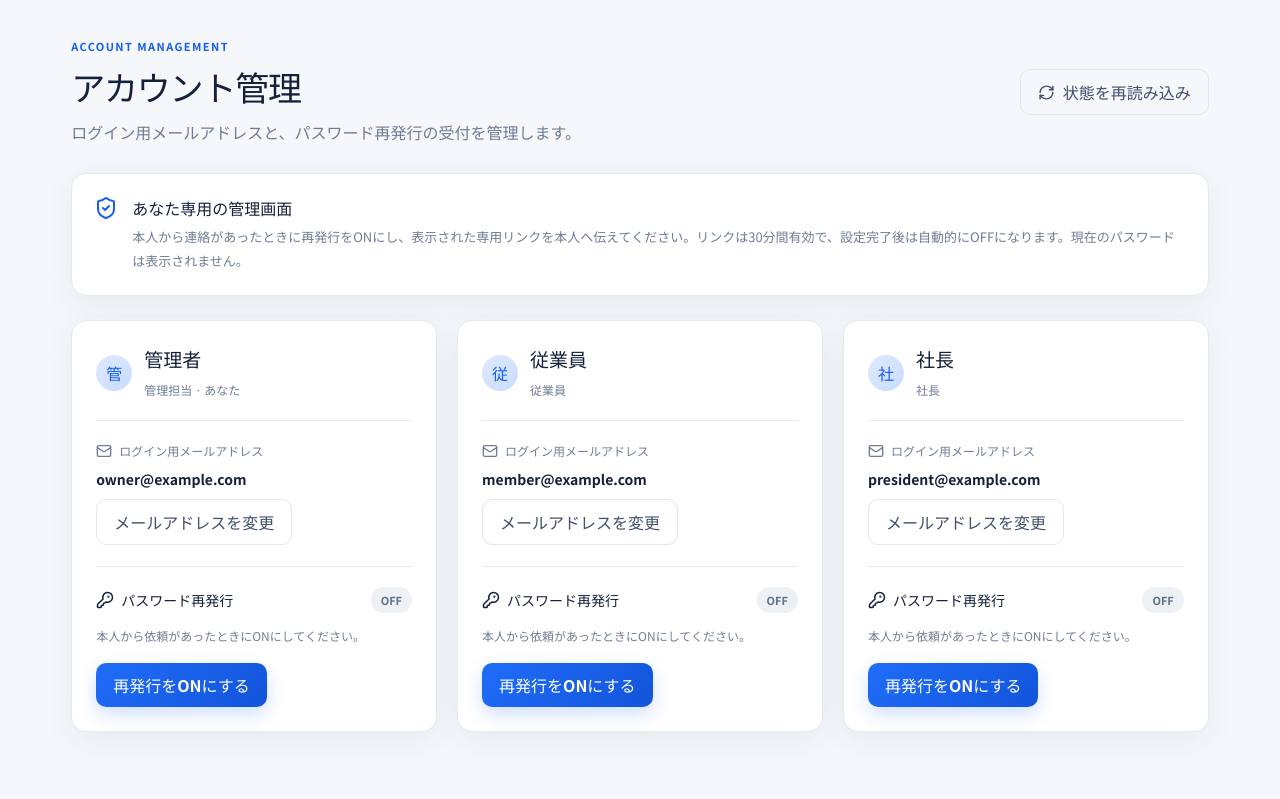
Test: removes a link when reloading finds completed recovery
The image size is (1280, 799).
Click the button "再発行をONにする" below "member@example.com" at (567, 685), box [482,663,653,707]
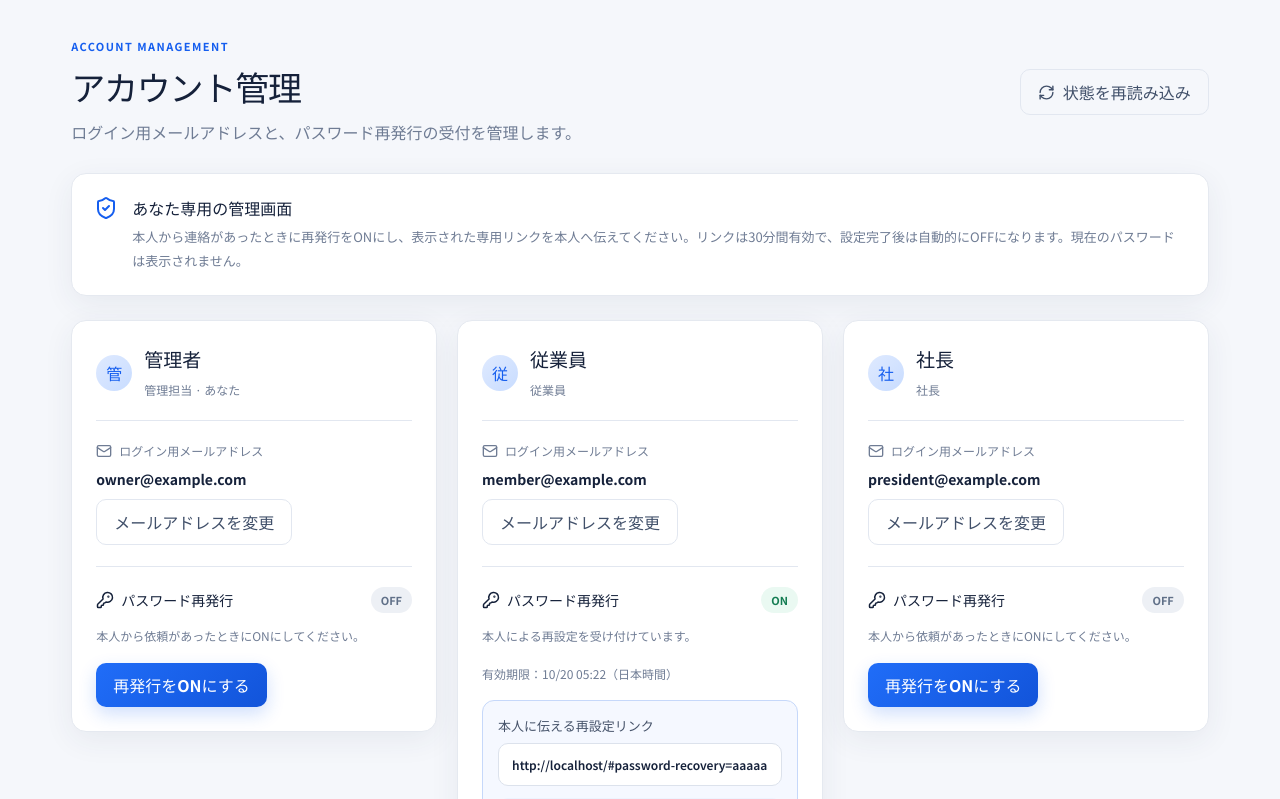
Now the field labelled "本人に伝える再設定リンク" is shown, box [498,744,782,786]
Click the button "状態を再読み込み" at (1114, 92), box [1020,69,1209,115]
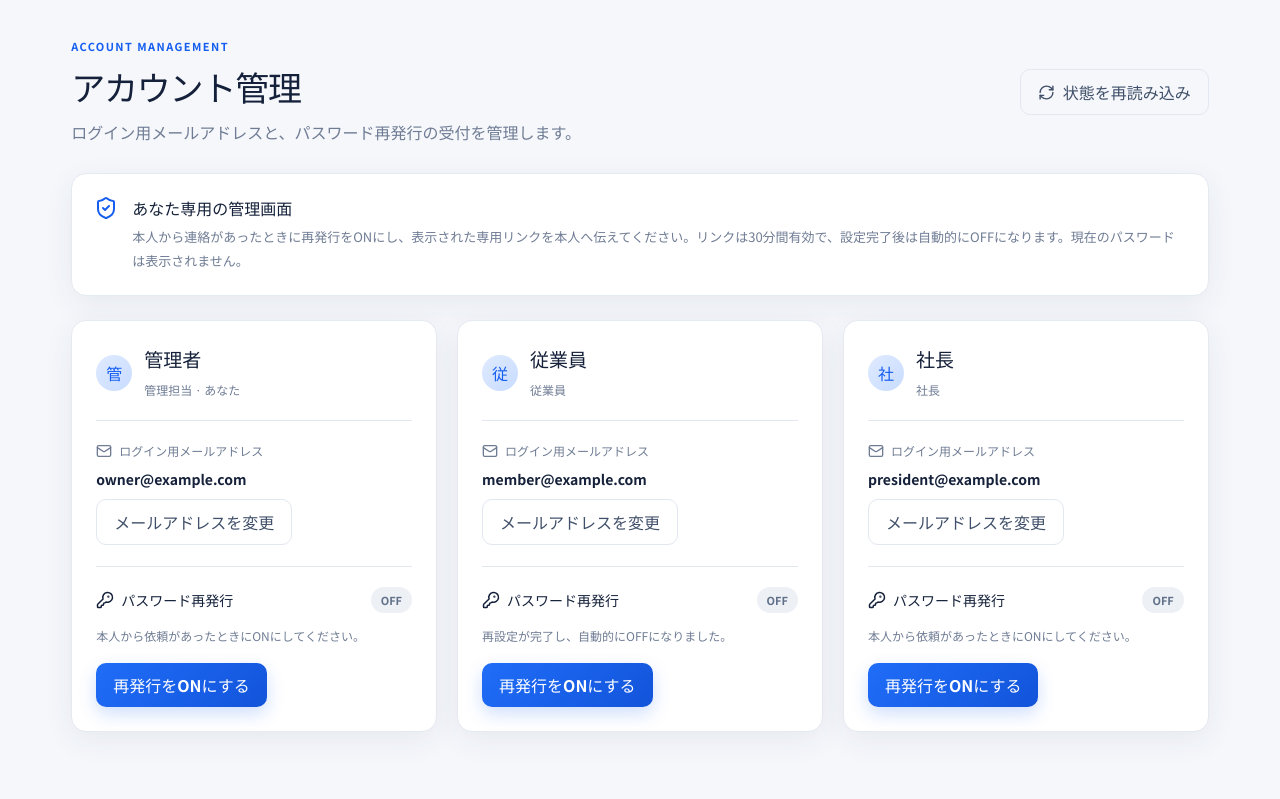
Now the text "再設定が完了し、自動的にOFFになりました。" is shown, box [482,627,732,644]
Now the label labelled "本人に伝える再設定リンク" is gone
